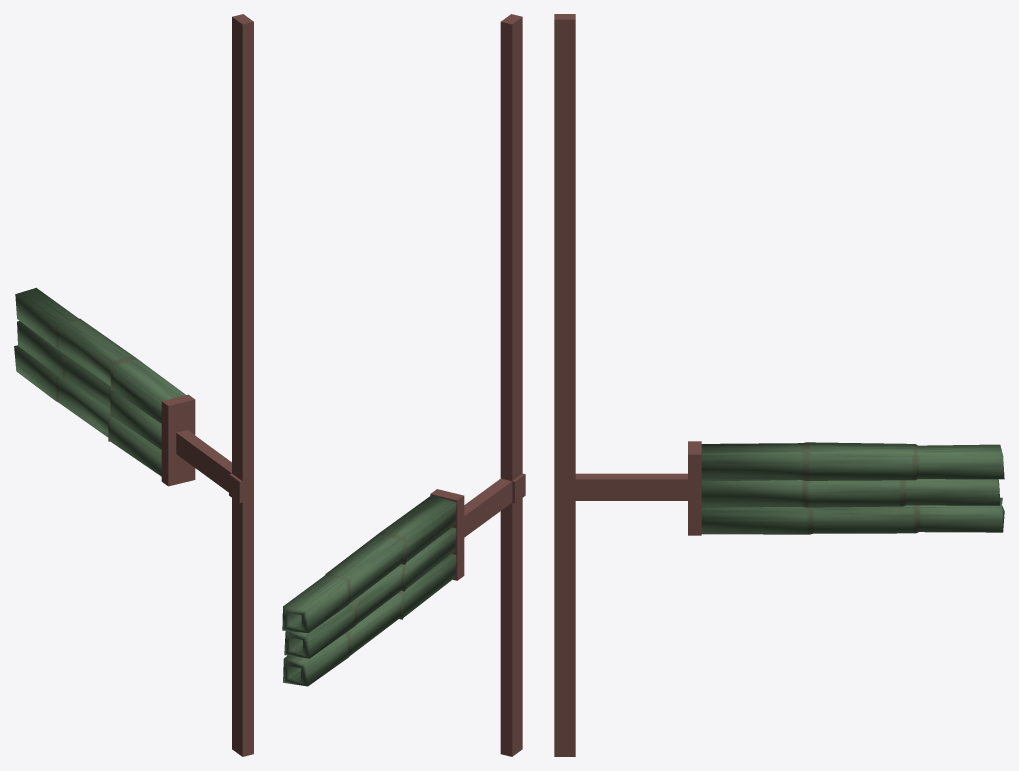
File: bamboo_right_3.glb
3 views of the same model, side by side, from view 1: azimuth 30°, elevation 25°; view 2: azimuth 150°, elevation 25°; view 3: azimuth 270°, elevation 25° (orthographic).
Visible parts, largest first — view 1: Stand.004, Obstacle.002; view 2: Stand.004, Obstacle.002; view 3: Obstacle.002, Stand.004.
Boxes of the visible parts, left/top/right/bottom form: Stand.004: left=161, top=14, right=253, bottom=756; Obstacle.002: left=14, top=287, right=185, bottom=476; Stand.004: left=430, top=14, right=525, bottom=756; Obstacle.002: left=282, top=495, right=456, bottom=686; Obstacle.002: left=701, top=442, right=1004, bottom=534; Stand.004: left=554, top=14, right=701, bottom=756.
Bounding box in the file's own units: 0.2157 × 5.59 × 3.09.
Materials: 2 (1 with a texture image).
